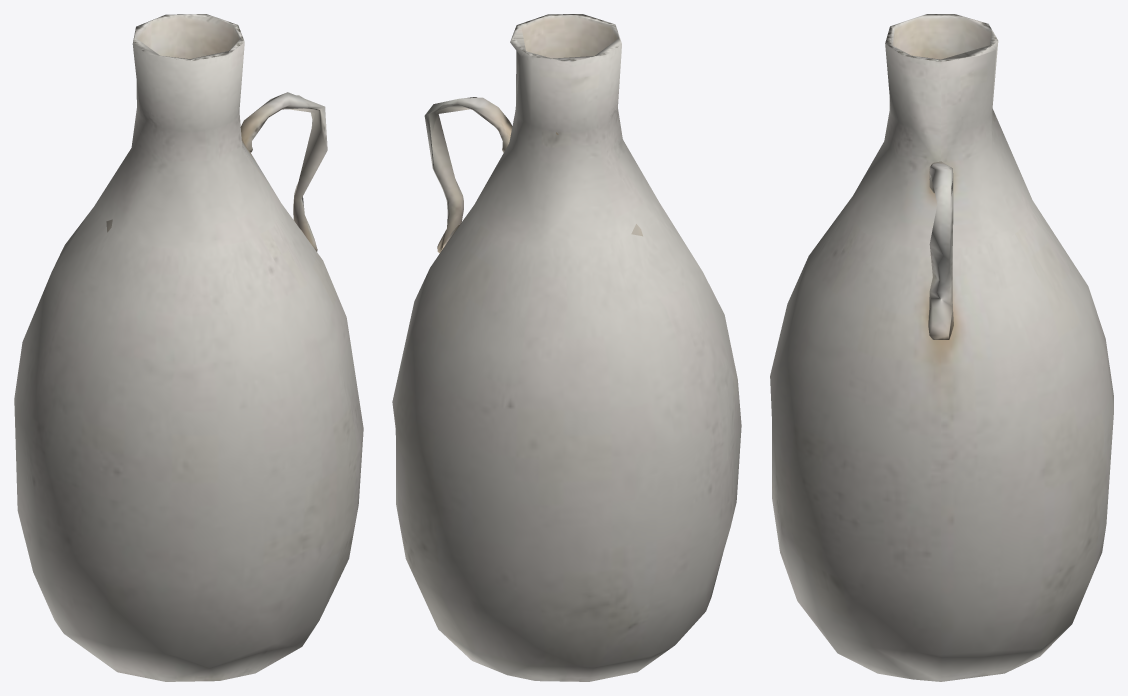
The picture shows the model from 3 angles, left to right: view 1: azimuth 30°, elevation 25°; view 2: azimuth 150°, elevation 25°; view 3: azimuth 270°, elevation 25°; orthographic projection.
Visible parts, largest first — view 1: ceramic_vase_04; view 2: ceramic_vase_04; view 3: ceramic_vase_04.
Part boxes in pixels (bbox=[...]): ceramic_vase_04: bbox=[14, 14, 363, 681]; ceramic_vase_04: bbox=[392, 14, 741, 681]; ceramic_vase_04: bbox=[770, 14, 1113, 681].
Size of the model in its own units: 0.1793 by 0.341 by 0.1777.
Materials: 1 (1 with a texture image).
